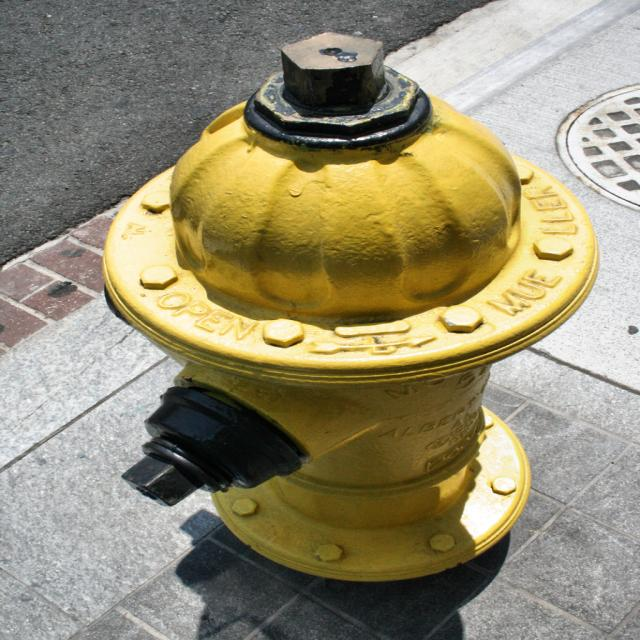fire_hydrant: (114, 30, 593, 585)
